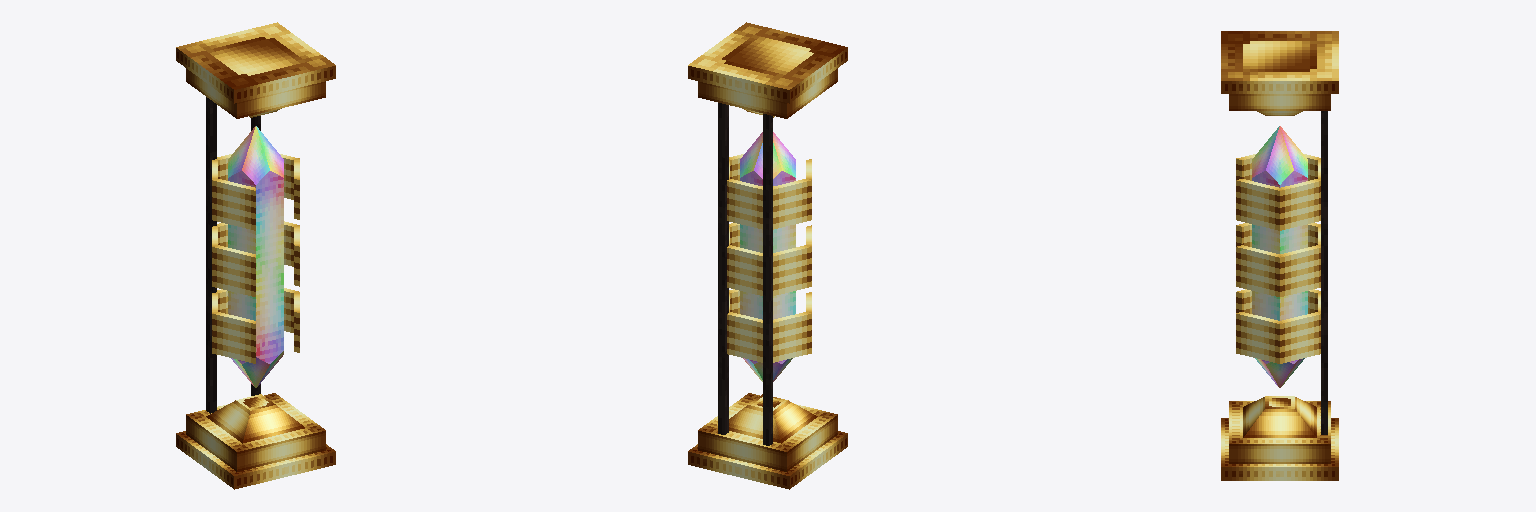
The picture shows the model from 3 angles: view 1: azimuth 30°, elevation 25°; view 2: azimuth 150°, elevation 25°; view 3: azimuth 270°, elevation 25°; orthographic projection.
Parts seen in each view (by area): view 1: Base, Crystal, Reader, Struts; view 2: Base, Reader, Struts, Crystal; view 3: Base, Reader, Crystal, Struts.
Part boxes in pixels (left/top/right/bottom): Base: left=176, top=22, right=335, bottom=489; Crystal: left=228, top=126, right=283, bottom=387; Reader: left=212, top=154, right=299, bottom=363; Struts: left=206, top=97, right=260, bottom=413; Base: left=688, top=22, right=847, bottom=489; Reader: left=727, top=154, right=811, bottom=362; Struts: left=718, top=103, right=772, bottom=445; Crystal: left=740, top=132, right=795, bottom=381; Base: left=1221, top=31, right=1338, bottom=480; Reader: left=1236, top=154, right=1320, bottom=363; Crystal: left=1252, top=126, right=1307, bottom=387; Struts: left=1321, top=111, right=1327, bottom=434.
Bounding box in the file's own units: 0.7874 × 2.95 × 0.7874.
Materials: 1 (1 with a texture image).